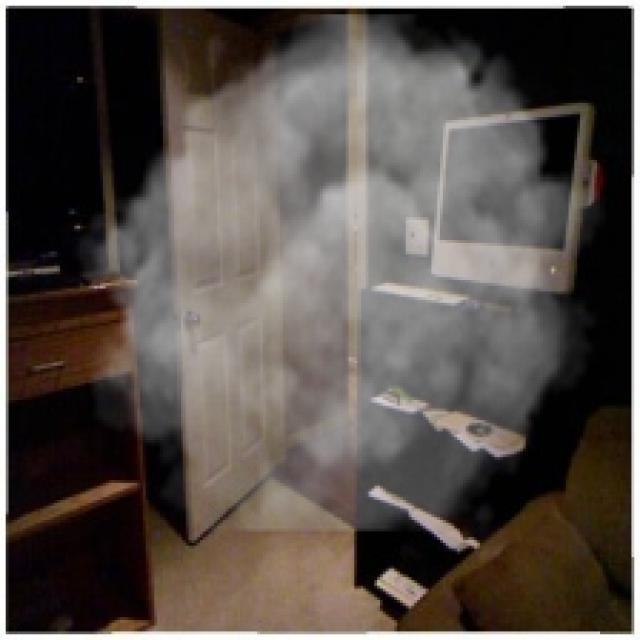smoke: (71, 14, 606, 532)
